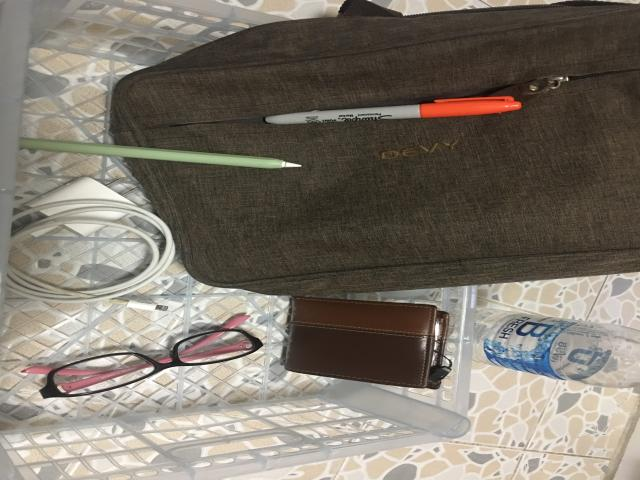Glasses: (40, 328, 263, 398)
Pen: (265, 96, 522, 125)
Wallet: (285, 297, 448, 389)
bottle: (473, 308, 640, 387)
wire: (7, 177, 175, 312)
